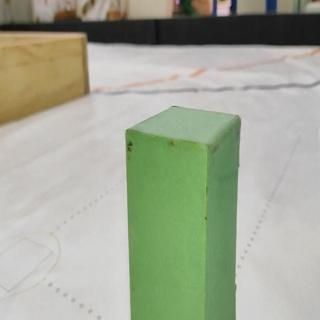greenbox: (121, 101, 244, 320)
